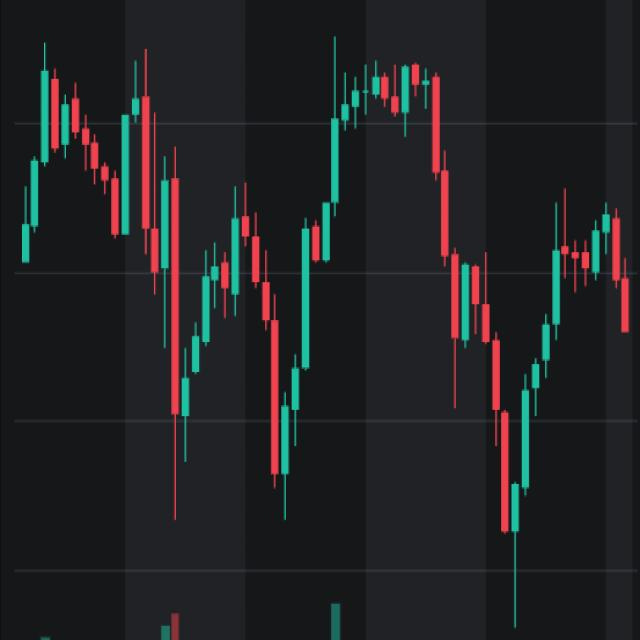Resistance-Emerging: (28, 24, 633, 540)
